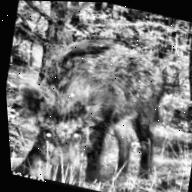boar: (2, 8, 172, 192)
